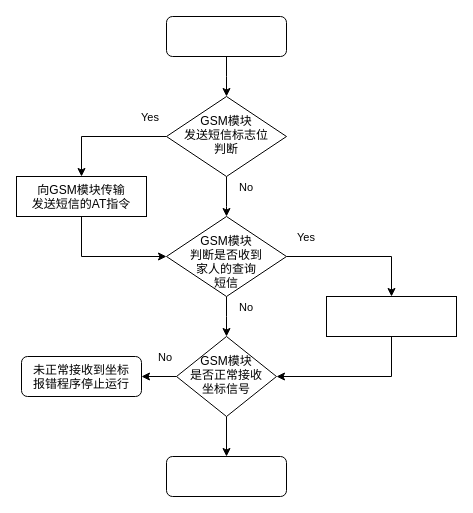
Some shapes in this 473 by 513 pixel diagram are drawn without their labels. Each missing label, with the centre of its shape:
"Uart3Pro()函数结束" goes at point (226, 476).
"主函数中轮询 Uart3Pro()函数" goes at point (226, 36).
"更改对应的语音标志位" goes at point (391, 316).
